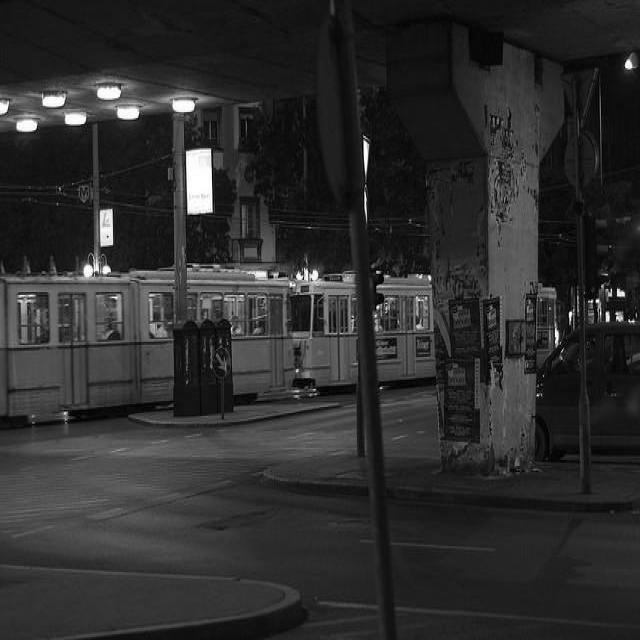vehicle: (534, 323, 640, 464)
